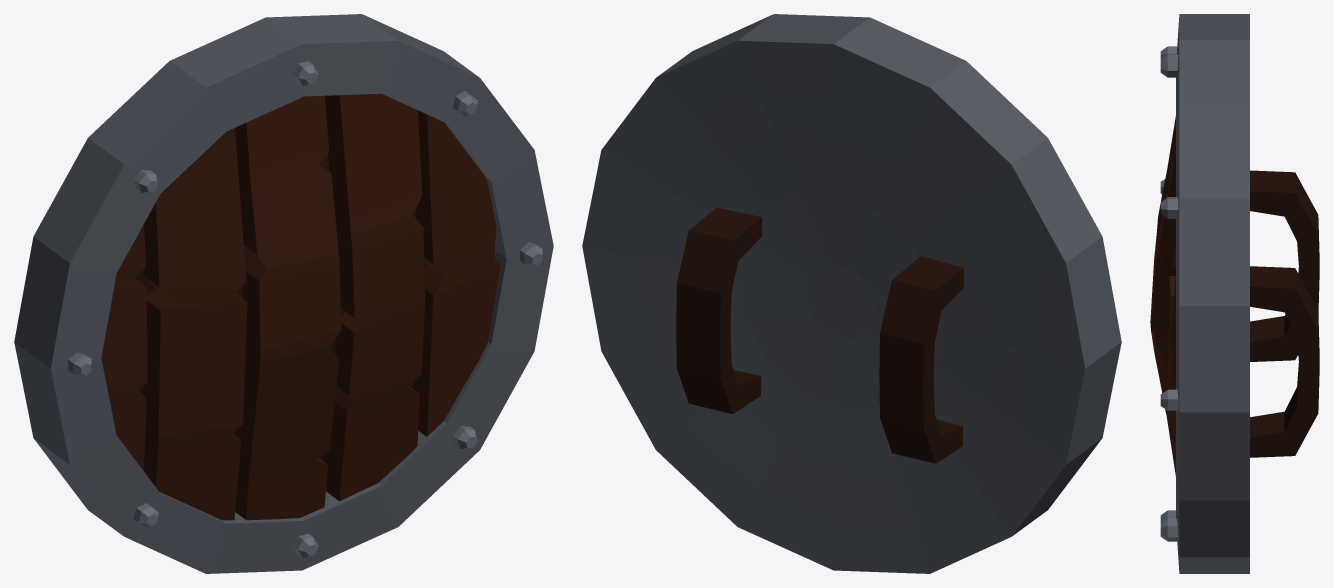
The model's file is Shield_Round.glb.
3 views of the same model, side by side, from view 1: azimuth 30°, elevation 25°; view 2: azimuth 150°, elevation 25°; view 3: azimuth 270°, elevation 25° (orthographic). The views are drawn at different scales.
Visible parts, largest first — view 1: Shield_Round; view 2: Shield_Round; view 3: Shield_Round.
Boxes of the visible parts, <box> form: Shield_Round: <box>14,14,553,573</box>; Shield_Round: <box>582,14,1121,573</box>; Shield_Round: <box>1150,14,1319,573</box>.
Bounding box in the file's own units: 200 × 200 × 60.37.
